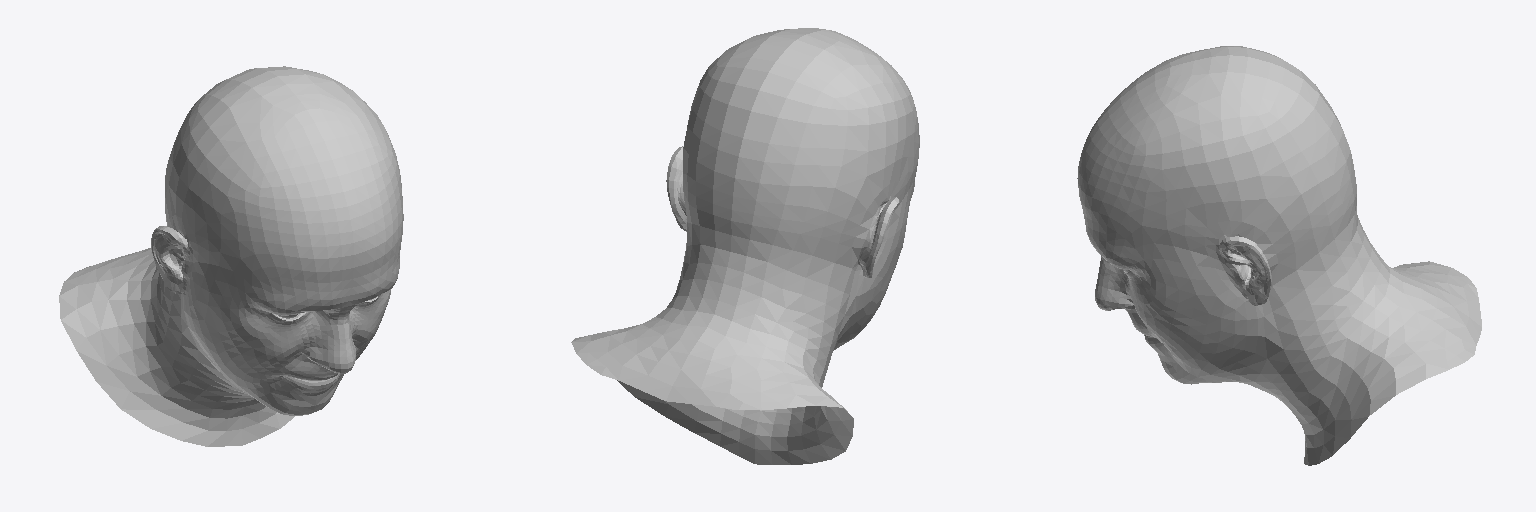
File: 00021_w_HIFI3D_UV.obj
3 renders of one model, left to right at view 1: azimuth 30°, elevation 25°; view 2: azimuth 150°, elevation 25°; view 3: azimuth 270°, elevation 25°, orthographic.
Size of the model in its own units: 0.2335 by 0.3277 by 0.3023.